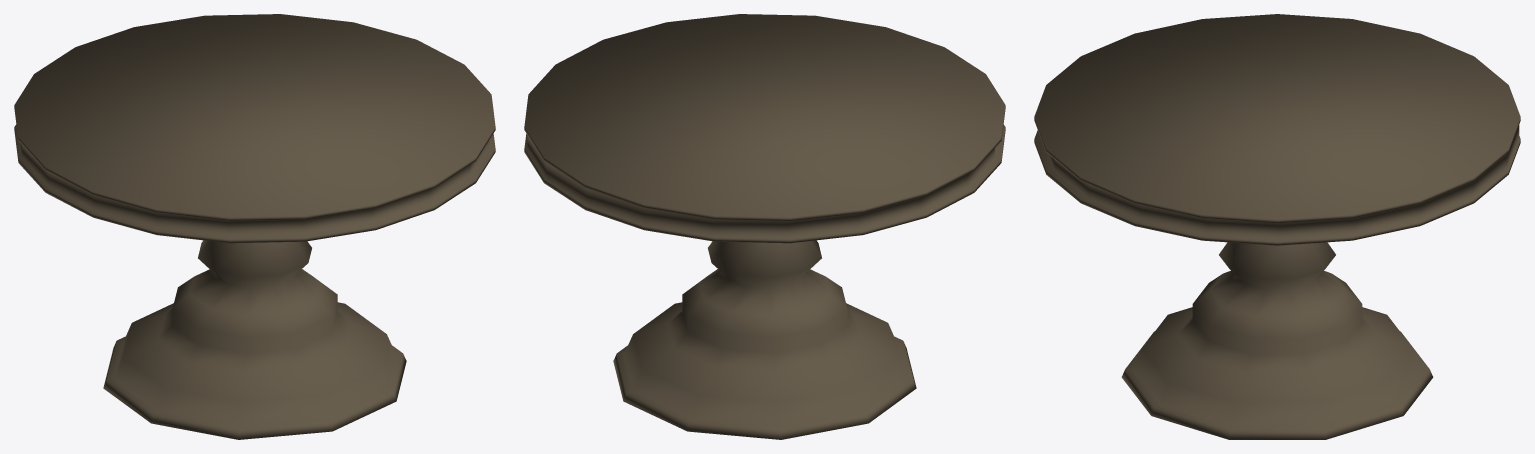
File: Table_RoundSmall.glb
3 views of the same model, side by side, from view 1: azimuth 30°, elevation 25°; view 2: azimuth 150°, elevation 25°; view 3: azimuth 270°, elevation 25° (orthographic).
Parts seen in each view (by area): view 1: Table_RoundSmall; view 2: Table_RoundSmall; view 3: Table_RoundSmall.
Boxes of the visible parts, box(x1,y1,x2,y2) form: Table_RoundSmall: box(14, 14, 495, 439); Table_RoundSmall: box(524, 14, 1005, 439); Table_RoundSmall: box(1034, 14, 1520, 439).
Bounding box in the file's own units: 1.94 × 1.15 × 1.94.
